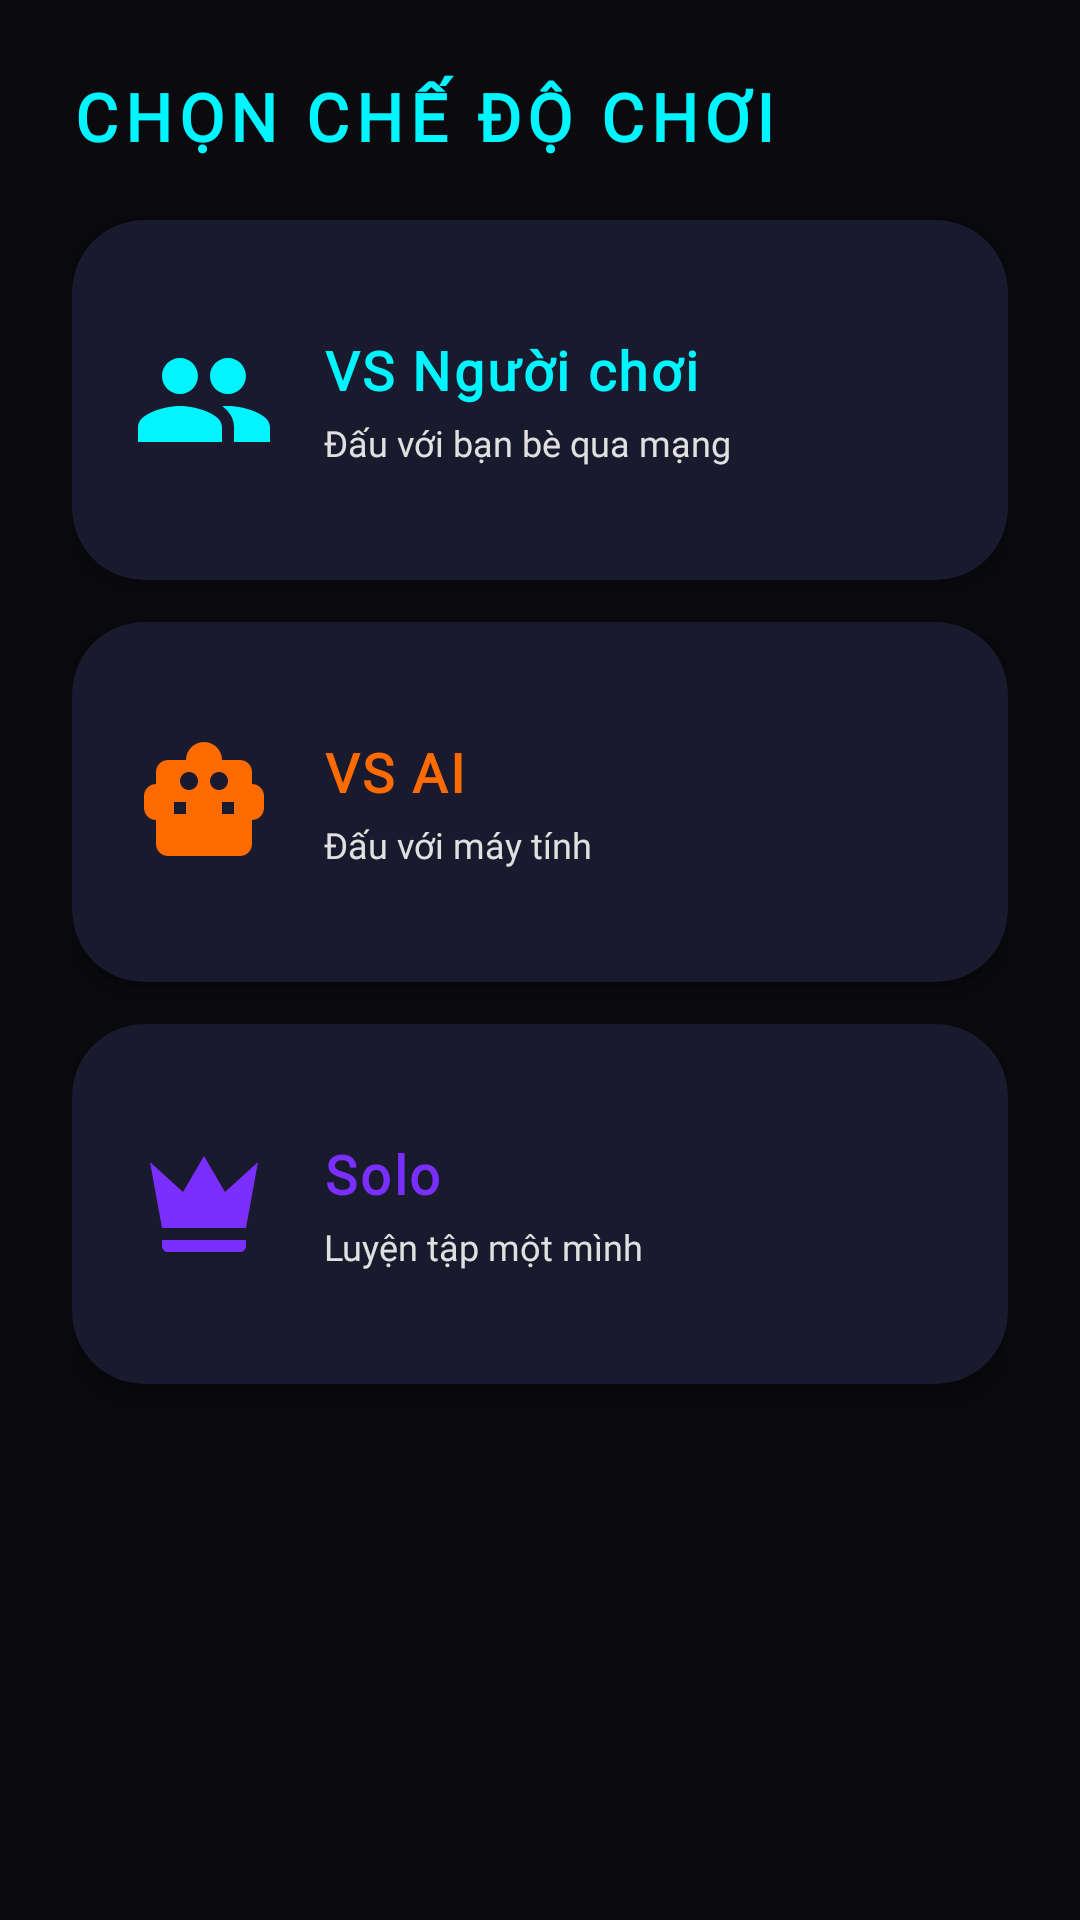

Screen size 1080w x 1920h. Icon name, then its center in pixels as point (x, y):
players: point (204, 400)
robot: point (204, 799)
